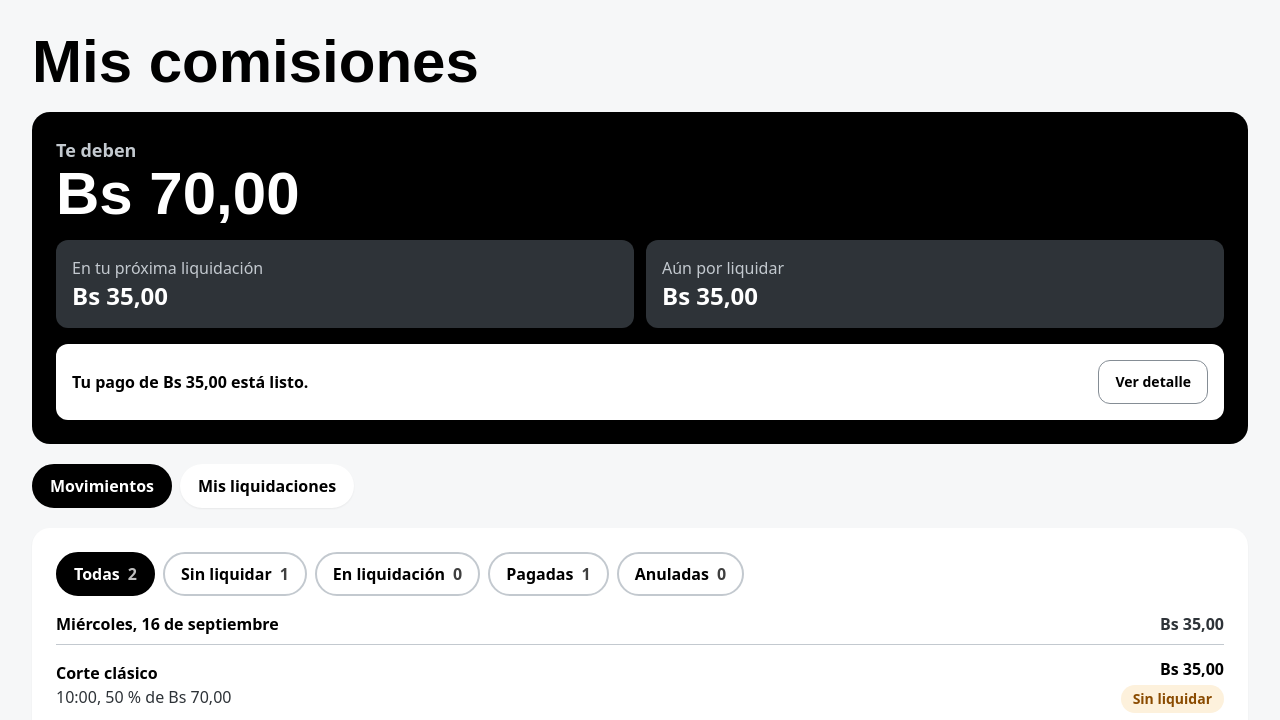
Test: CommissionsPage › limits the barber view to personal data and never exposes settlement actions
Expected: the heading "Mis comisiones" is shown, [32,32,479,92]
Expected: the text "Bs 70,00" is shown, [56,160,300,227]
Step 1. Click the button "Ver detalle" → coordinates (1153, 382), box [1098,360,1208,404]
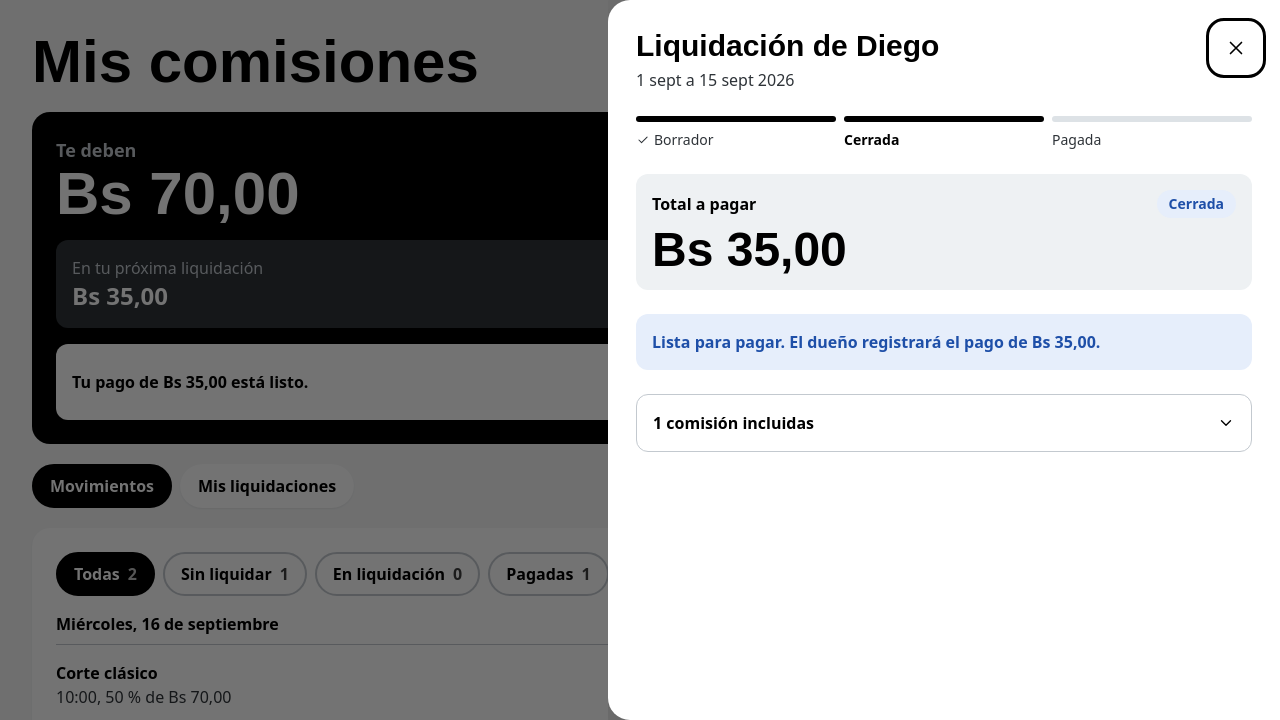
Expected: the text "Lista para pagar. El dueño registrará el pago de Bs 35,00." is shown, [636,314,1252,370]
